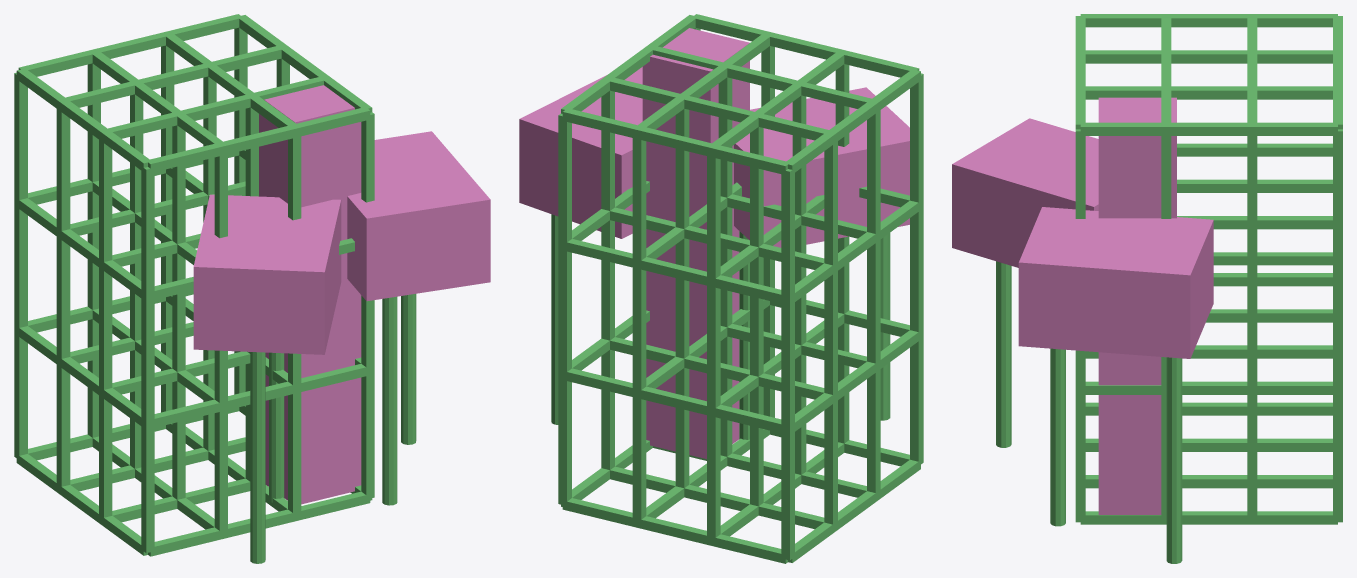
The model's file is folie_tag_050.glb.
3 renders of one model, left to right at view 1: azimuth 30°, elevation 25°; view 2: azimuth 150°, elevation 25°; view 3: azimuth 270°, elevation 25°, orthographic.
Parts seen in each view (by area): view 1: folie_tag_050_00_cage, folie_tag_050_01_block, folie_tag_050_core, folie_tag_050_02_block, folie_tag_050_line; view 2: folie_tag_050_00_cage, folie_tag_050_core, folie_tag_050_01_block, folie_tag_050_02_block, folie_tag_050_line; view 3: folie_tag_050_00_cage, folie_tag_050_02_block, folie_tag_050_core, folie_tag_050_01_block, folie_tag_050_line.
Boxes of the visible parts, <box> form: folie_tag_050_00_cage: <box>14,14,374,556</box>; folie_tag_050_01_block: <box>193,194,341,354</box>; folie_tag_050_core: <box>259,85,361,504</box>; folie_tag_050_02_block: <box>347,131,490,301</box>; folie_tag_050_line: <box>250,294,416,563</box>; folie_tag_050_00_cage: <box>558,14,923,563</box>; folie_tag_050_core: <box>642,28,749,459</box>; folie_tag_050_01_block: <box>734,87,909,247</box>; folie_tag_050_02_block: <box>519,67,642,238</box>; folie_tag_050_line: <box>551,214,890,439</box>; folie_tag_050_00_cage: <box>1075,14,1342,524</box>; folie_tag_050_02_block: <box>1018,207,1213,358</box>; folie_tag_050_core: <box>1098,97,1176,514</box>; folie_tag_050_01_block: <box>952,118,1098,267</box>; folie_tag_050_line: <box>996,261,1182,563</box>.
Bounding box in the file's own units: 5.6 × 6.14 × 5.47.
